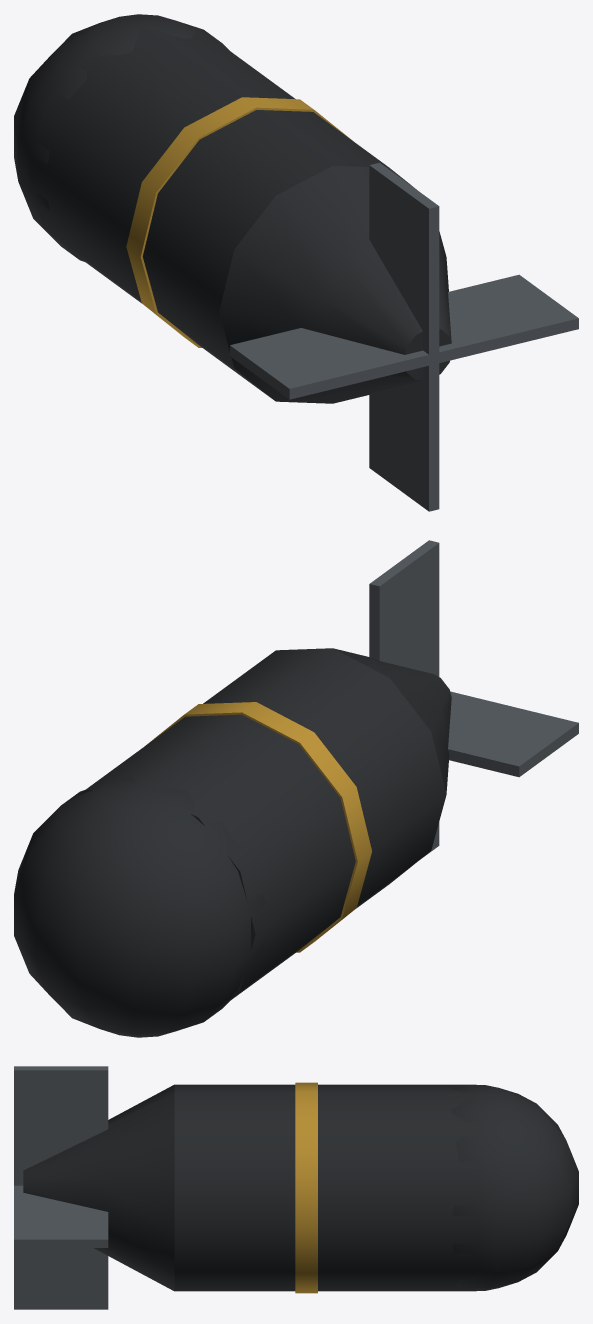
Rendered from bomb.glb.
The picture shows the model from 3 angles, top to bottom: view 1: azimuth 30°, elevation 25°; view 2: azimuth 150°, elevation 25°; view 3: azimuth 270°, elevation 25°; orthographic projection. The views are drawn at different scales.
Parts seen in each view (by area): view 1: _MeshInstance3D_15, _MeshInstance3D_17, _MeshInstance3D_18, _MeshInstance3D_19, _MeshInstance3D_16, _MeshInstance3D_20; view 2: _MeshInstance3D_15, _MeshInstance3D_16, _MeshInstance3D_18, _MeshInstance3D_19, _MeshInstance3D_20, _MeshInstance3D_17; view 3: _MeshInstance3D_15, _MeshInstance3D_16, _MeshInstance3D_17, _MeshInstance3D_18, _MeshInstance3D_20, _MeshInstance3D_19.
Boxes of the visible parts, x1,y1,x2,y2 form: _MeshInstance3D_15: [28, 26, 389, 399]; _MeshInstance3D_17: [219, 165, 451, 403]; _MeshInstance3D_18: [369, 162, 439, 511]; _MeshInstance3D_19: [230, 274, 578, 399]; _MeshInstance3D_16: [14, 14, 229, 262]; _MeshInstance3D_20: [126, 97, 352, 347]; _MeshInstance3D_15: [78, 648, 446, 1000]; _MeshInstance3D_16: [14, 777, 265, 1037]; _MeshInstance3D_18: [369, 540, 439, 859]; _MeshInstance3D_19: [448, 691, 578, 777]; _MeshInstance3D_20: [147, 702, 371, 952]; _MeshInstance3D_17: [333, 648, 451, 794]; _MeshInstance3D_15: [174, 1084, 476, 1291]; _MeshInstance3D_16: [451, 1085, 578, 1290]; _MeshInstance3D_17: [23, 1084, 174, 1291]; _MeshInstance3D_18: [14, 1066, 108, 1309]; _MeshInstance3D_20: [295, 1082, 317, 1293]; _MeshInstance3D_19: [14, 1185, 108, 1247].
Size of the model in its own units: 1.4 by 1.4 by 2.99.
